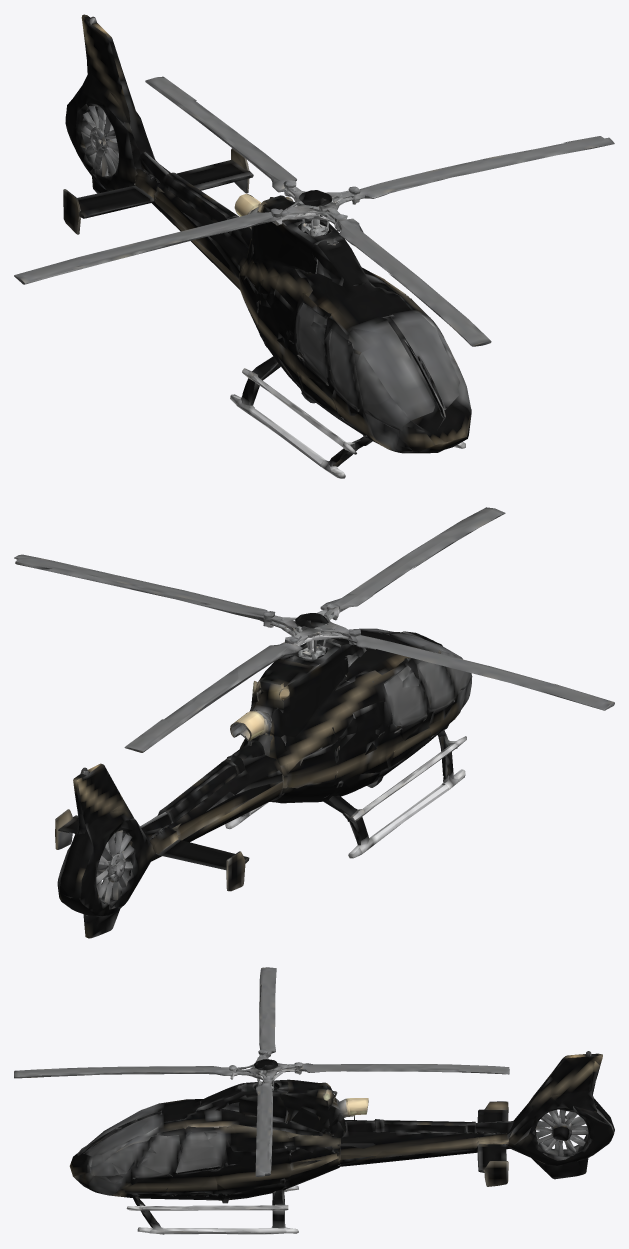
3 renders of one model, top to bottom at view 1: azimuth 30°, elevation 25°; view 2: azimuth 150°, elevation 25°; view 3: azimuth 270°, elevation 25°, orthographic. The views are drawn at different scales.
Parts seen in each view (by area): view 1: LO; view 2: LO; view 3: LO.
Boxes of the visible parts, x1,y1,x2,y2 form: LO: (14, 14, 614, 478); LO: (14, 507, 614, 938); LO: (14, 967, 614, 1234).
Size of the model in its own units: 10.69 by 3.88 by 13.05.
Materials: 1 (1 with a texture image).
